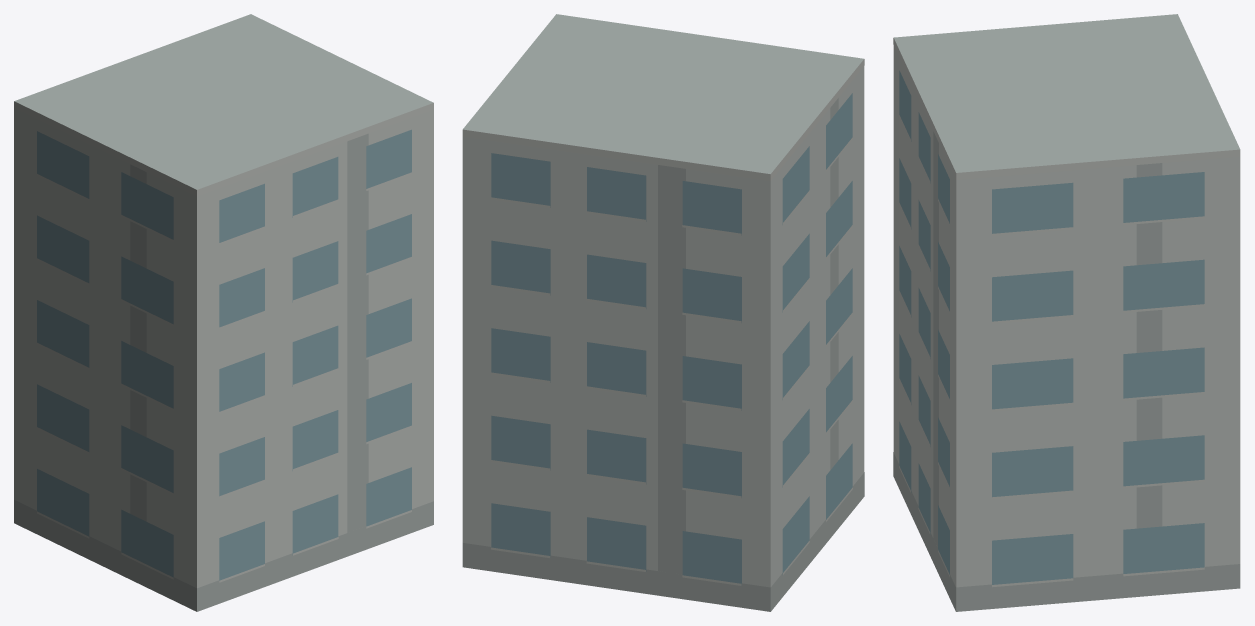
Rendered from residential-59ce7ac4-1548-4134-b481-e1772d10a620.glb.
The picture shows the model from 3 angles, left to right: view 1: azimuth 30°, elevation 25°; view 2: azimuth 150°, elevation 25°; view 3: azimuth 270°, elevation 25°; orthographic projection. The views are drawn at different scales.
Parts seen in each view (by area): view 1: residential-59ce7ac4-1548-4134-b481-e1772d10a620.tmp; view 2: residential-59ce7ac4-1548-4134-b481-e1772d10a620.tmp; view 3: residential-59ce7ac4-1548-4134-b481-e1772d10a620.tmp.
Part boxes in pixels (x1,y1,x2,y2): residential-59ce7ac4-1548-4134-b481-e1772d10a620.tmp: (14,14,433,611); residential-59ce7ac4-1548-4134-b481-e1772d10a620.tmp: (462,14,864,611); residential-59ce7ac4-1548-4134-b481-e1772d10a620.tmp: (893,14,1240,611).
Size of the model in its own units: 11.85 by 15.25 by 10.93.
